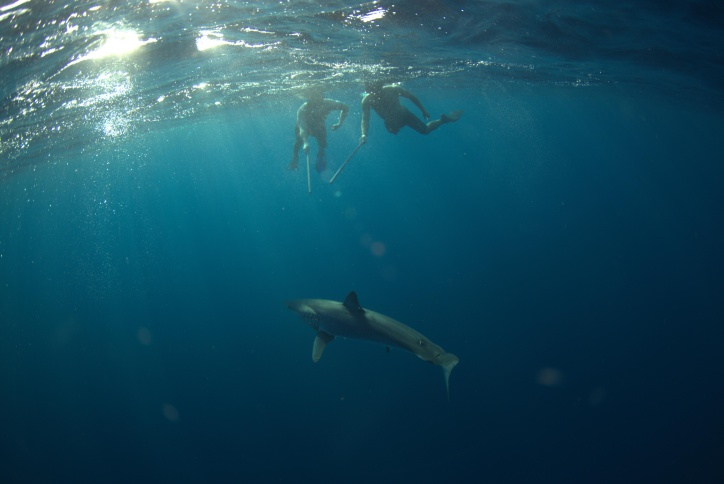Mako: (268, 284, 497, 404)
